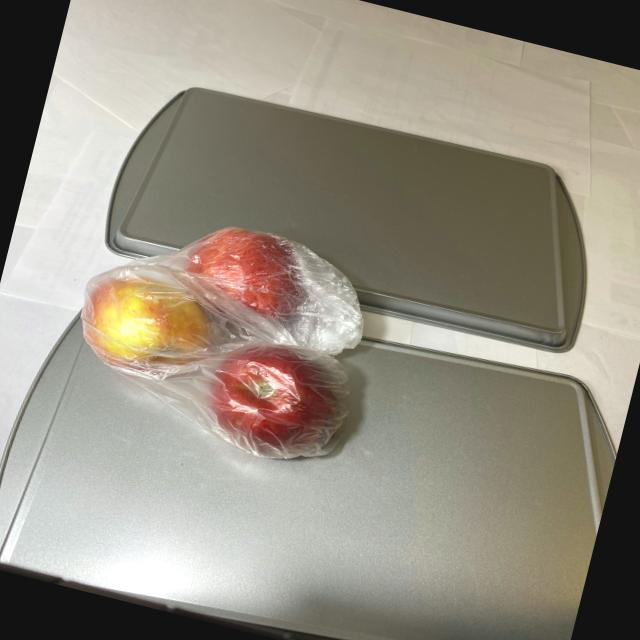apple: (58, 189, 386, 470)
